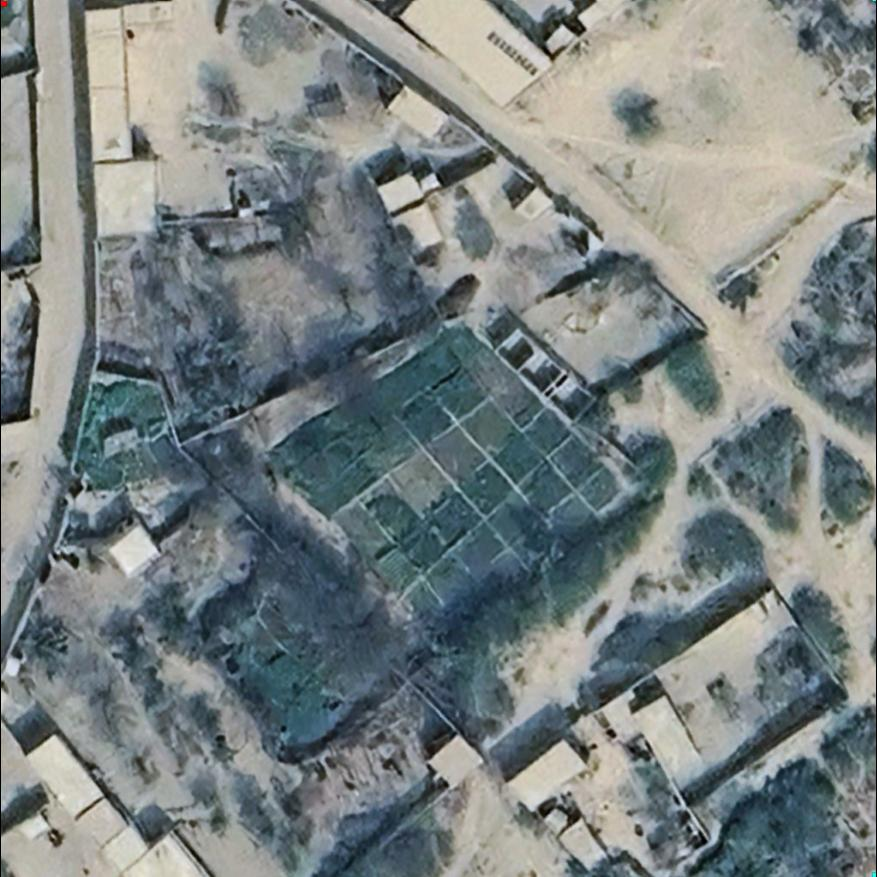Solarpanel: (479, 25, 543, 78)
